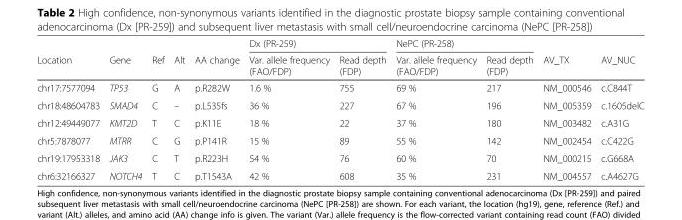table: (36, 37, 643, 181)
table column: (243, 37, 333, 181), (390, 37, 480, 181), (36, 37, 103, 181), (537, 37, 595, 181), (333, 37, 390, 181), (480, 37, 537, 181), (189, 37, 243, 181), (595, 37, 643, 181), (103, 37, 146, 181), (146, 37, 168, 181), (168, 37, 189, 181)
table column header: (36, 37, 643, 79)
table row: (36, 51, 643, 79), (36, 113, 643, 131), (36, 131, 643, 149), (36, 79, 643, 96), (36, 96, 643, 113), (36, 149, 643, 166), (36, 166, 643, 181), (36, 37, 643, 51)
table spanning cell: (36, 37, 103, 79), (537, 37, 595, 79), (189, 37, 243, 79), (243, 37, 390, 51), (390, 37, 537, 51), (595, 37, 643, 79), (103, 37, 146, 79), (146, 37, 168, 79), (168, 37, 189, 79)
